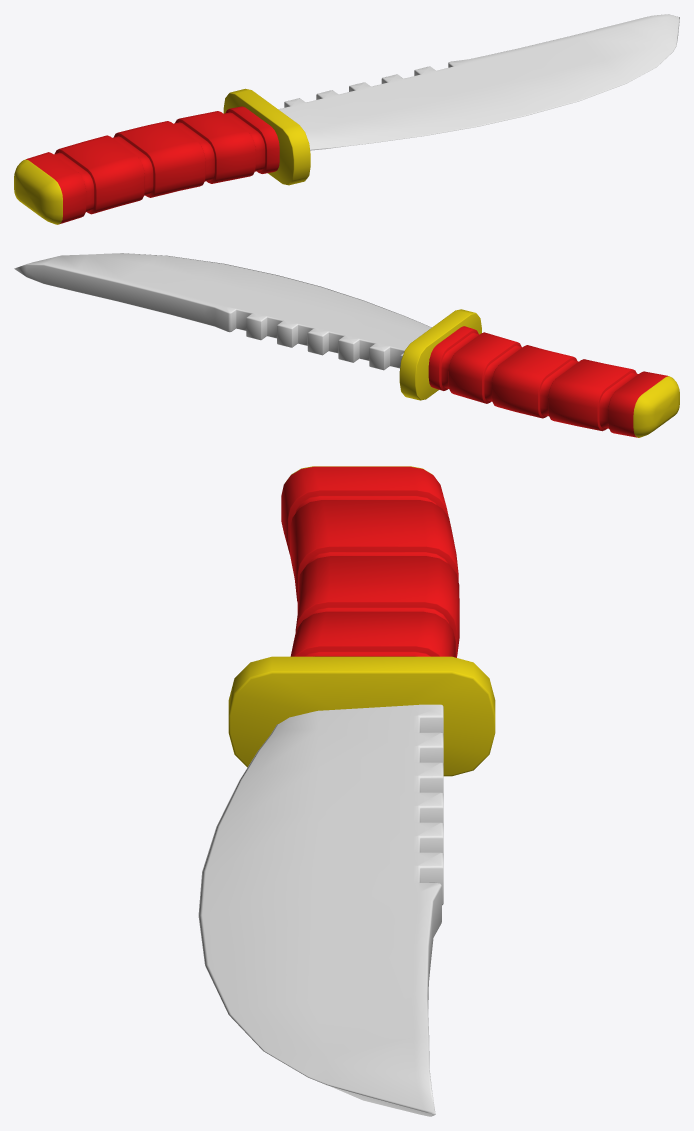
Rendered from Knife2.fbx.
3 renders of one model, top to bottom at view 1: azimuth 30°, elevation 25°; view 2: azimuth 150°, elevation 25°; view 3: azimuth 270°, elevation 25°, orthographic. The views are drawn at different scales.
Visible parts, largest first — view 1: Knife_low; view 2: Knife_low; view 3: Knife_low.
Part boxes in pixels (box(x1,y1,x2,y2)): Knife_low: box(14, 14, 679, 224); Knife_low: box(14, 253, 679, 437); Knife_low: box(198, 466, 495, 1116).
Size of the model in its own units: 1322 by 105 by 268.
